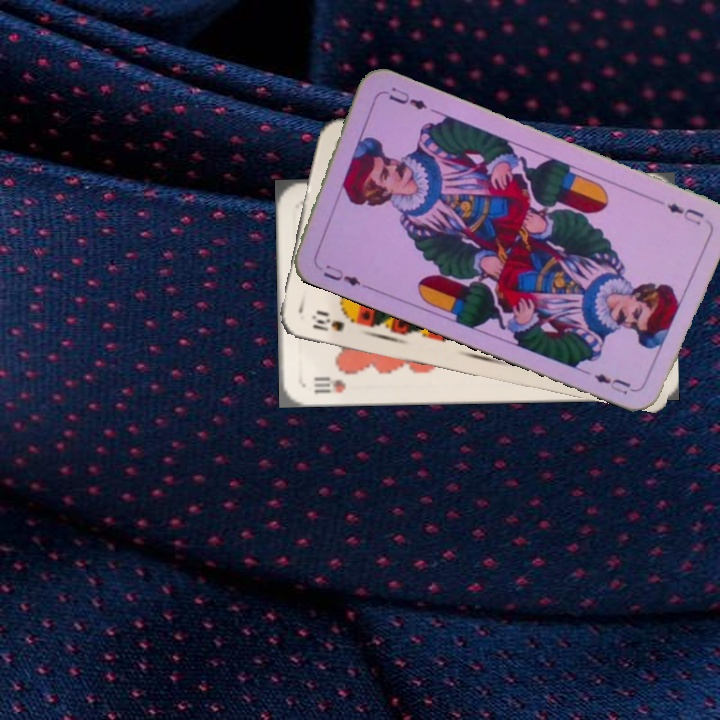EU: (312, 260, 369, 291), (663, 199, 707, 228)
H10: (309, 372, 348, 396)
S10: (307, 308, 347, 334)
